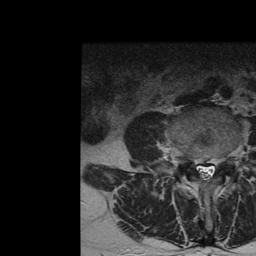CCS_stenosis: (202, 147, 209, 189)
LFS_stenosis: (217, 147, 224, 174)
LLS_normal: (209, 148, 217, 182)
RFS_stenosis: (186, 146, 194, 174)
RLS_normal: (194, 148, 202, 182)
